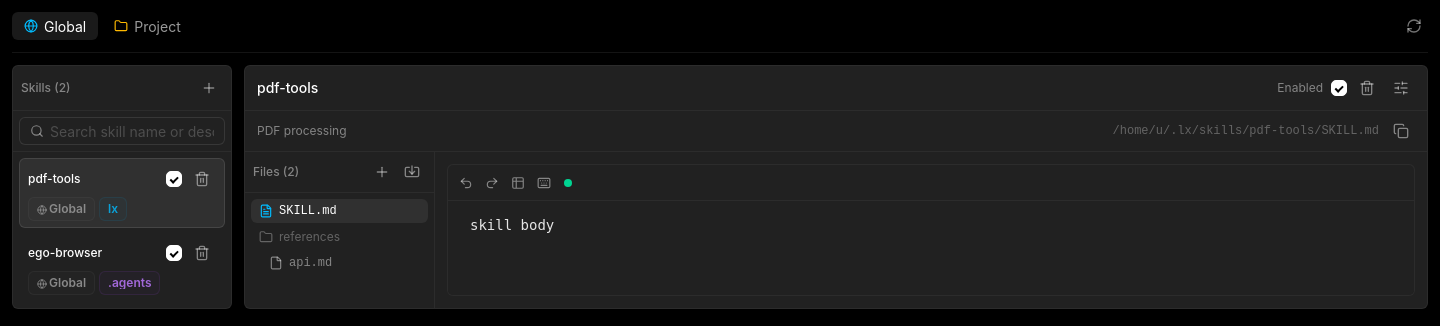
Test: SkillSettings › 右键文件行打开操作菜单，二次确认后从树中删除文件
Expected: the 2nd text "pdf-tools" is shown, top-left (28, 171), bottom-right (81, 187)
Expected: the text "api.md" is shown, top-left (289, 255), bottom-right (332, 271)
Right-click the button "api.md": (301, 263) top-left (269, 256), bottom-right (332, 270)
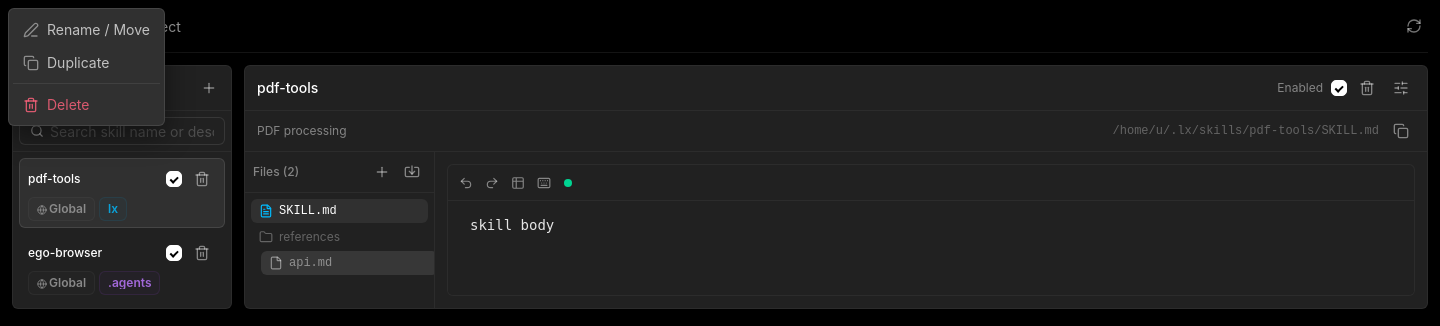
Expected: the text "Rename / Move" is shown, top-left (47, 19), bottom-right (150, 40)
Expected: the text "Duplicate" is shown, top-left (47, 54), bottom-right (109, 71)
Click the menu item "Delete": (86, 104) top-left (13, 88), bottom-right (160, 121)
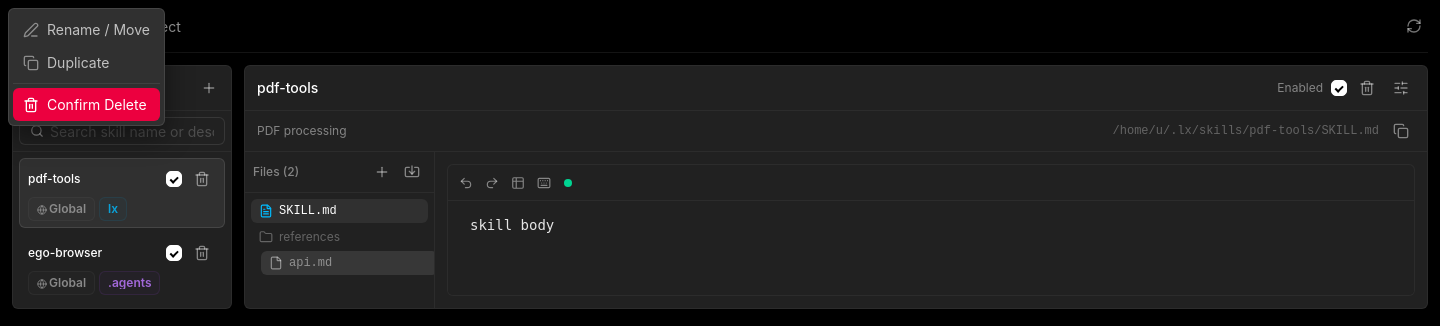
Click the menu item "Confirm Delete": (86, 104) top-left (13, 88), bottom-right (160, 121)
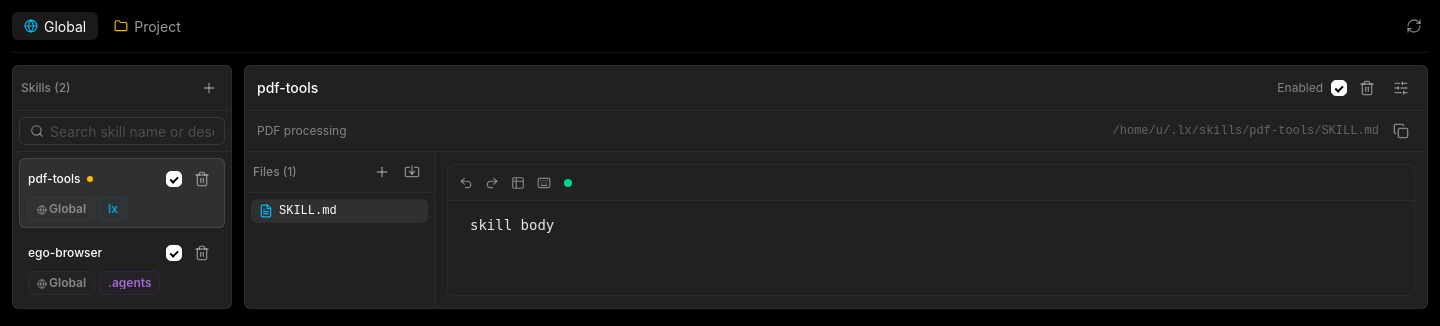
Expected: the button "api.md" is gone
